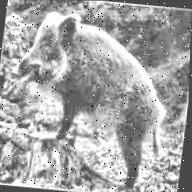boar: (0, 4, 175, 190)
